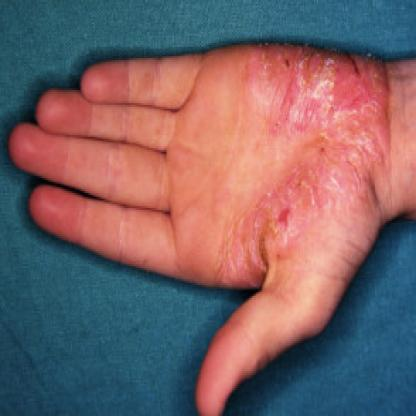Atopic Dermatitis: (257, 49, 385, 132), (268, 172, 307, 238)
